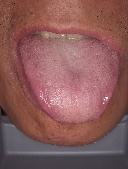tongue: (18, 43, 121, 125)
